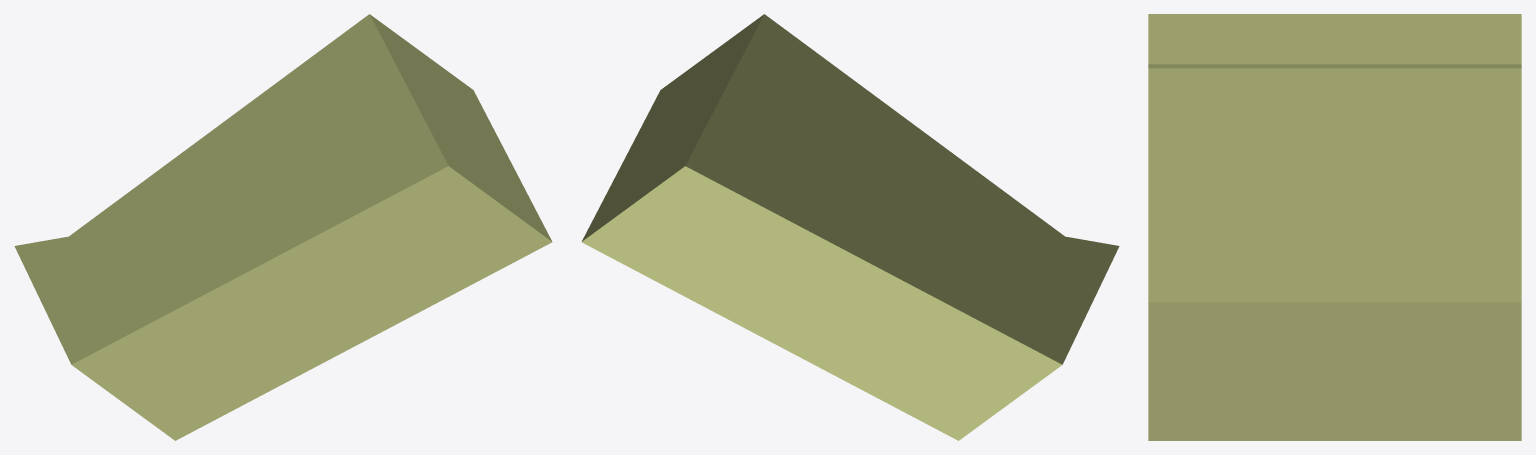
The picture shows the model from 3 angles, left to right: view 1: azimuth 30°, elevation 25°; view 2: azimuth 150°, elevation 25°; view 3: azimuth 270°, elevation 25°; orthographic projection. The views are drawn at different scales.
Visible parts, largest first — view 1: 0_1_0_2_0_2_0_1_3; view 2: 0_1_0_2_0_2_0_1_3; view 3: 0_1_0_2_0_2_0_1_3.
Part boxes in pixels (x1=…): 0_1_0_2_0_2_0_1_3: x1=14, y1=14, x2=552, y2=440; 0_1_0_2_0_2_0_1_3: x1=581, y1=14, x2=1119, y2=440; 0_1_0_2_0_2_0_1_3: x1=1148, y1=14, x2=1521, y2=440.
Bounding box in the file's own units: 14.47 × 8.86 × 6.
